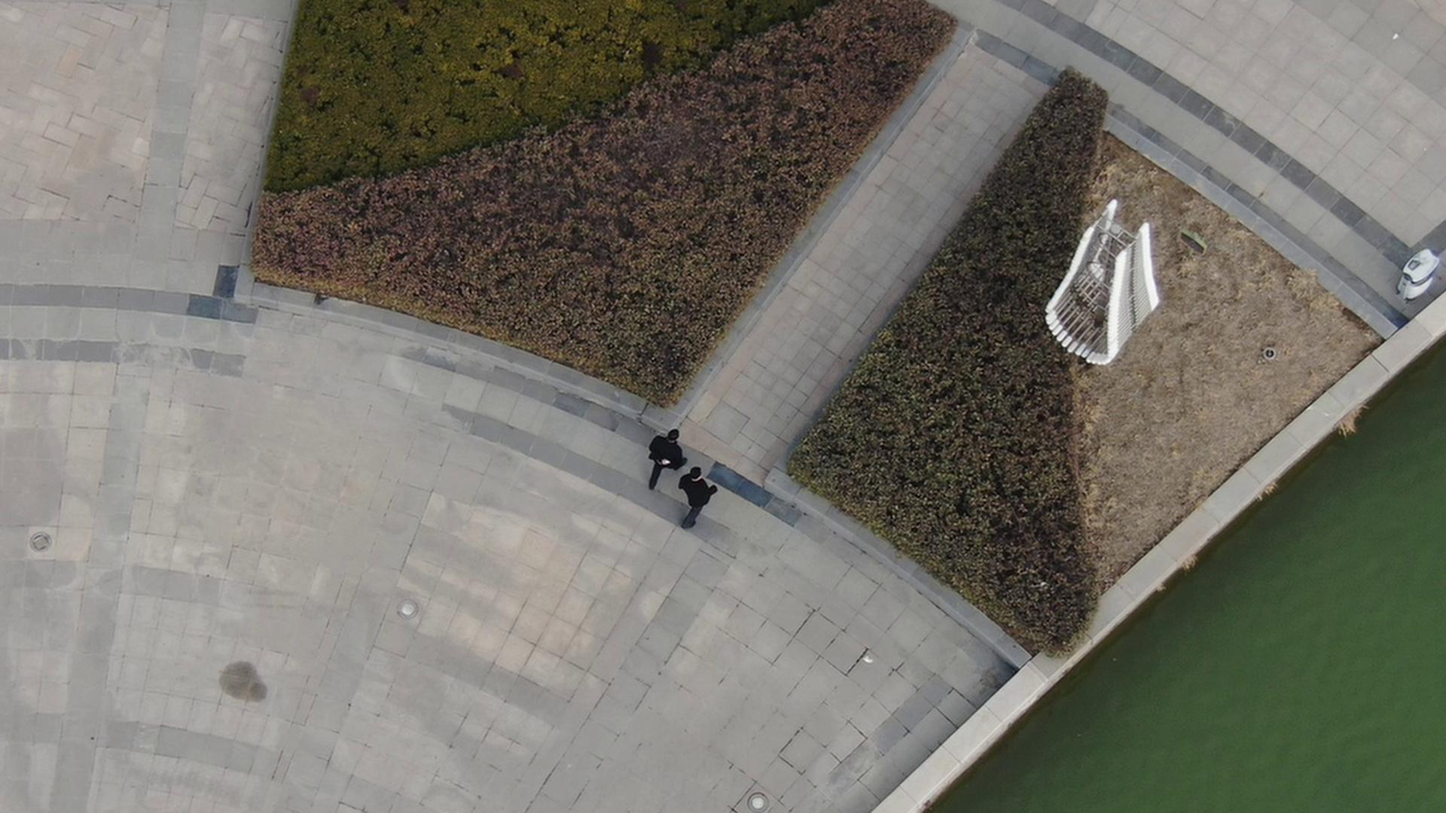human: (684, 452, 732, 525), (655, 419, 698, 489)
